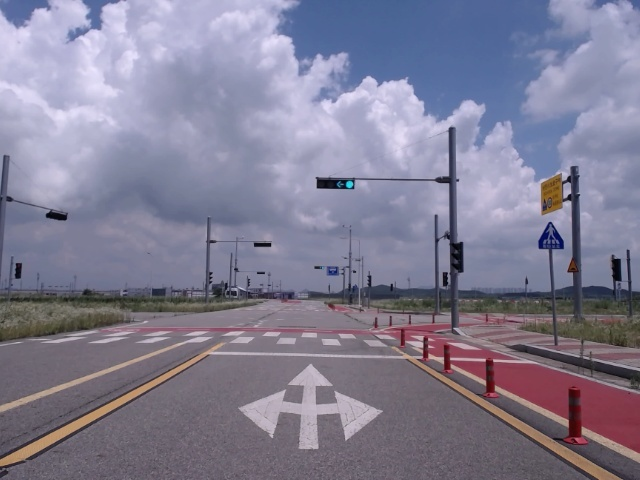all_green_4: (315, 176, 353, 188)
